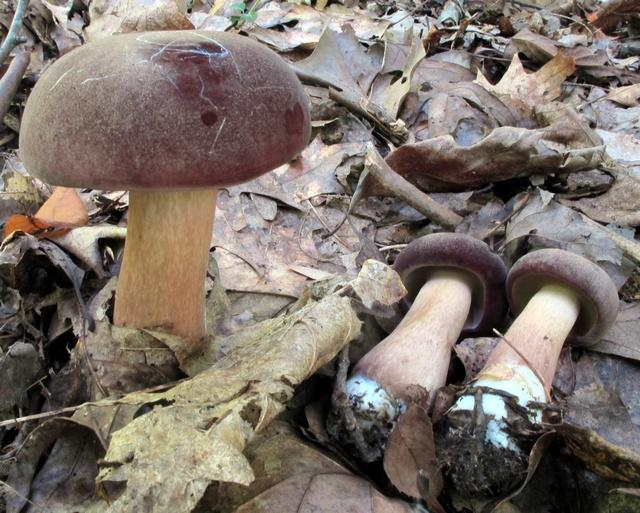poisonous_mushroom: (16, 27, 312, 345), (434, 246, 620, 498), (328, 230, 507, 463)
